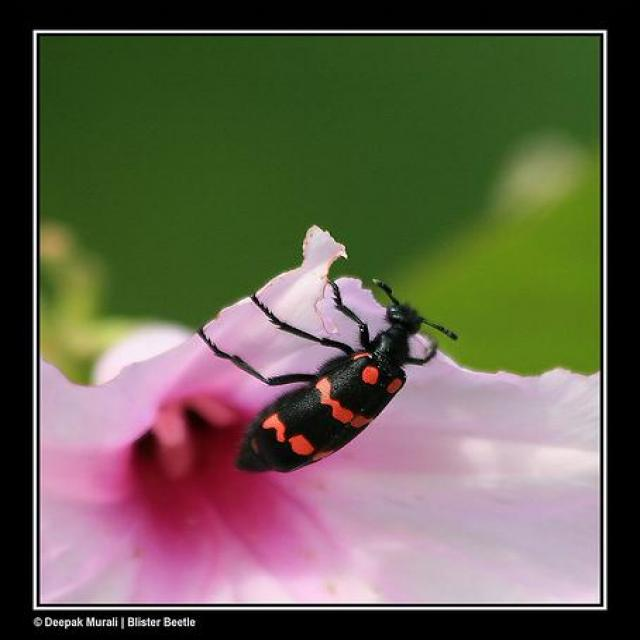BlisterBeetle-Adult-: (185, 270, 460, 478)
